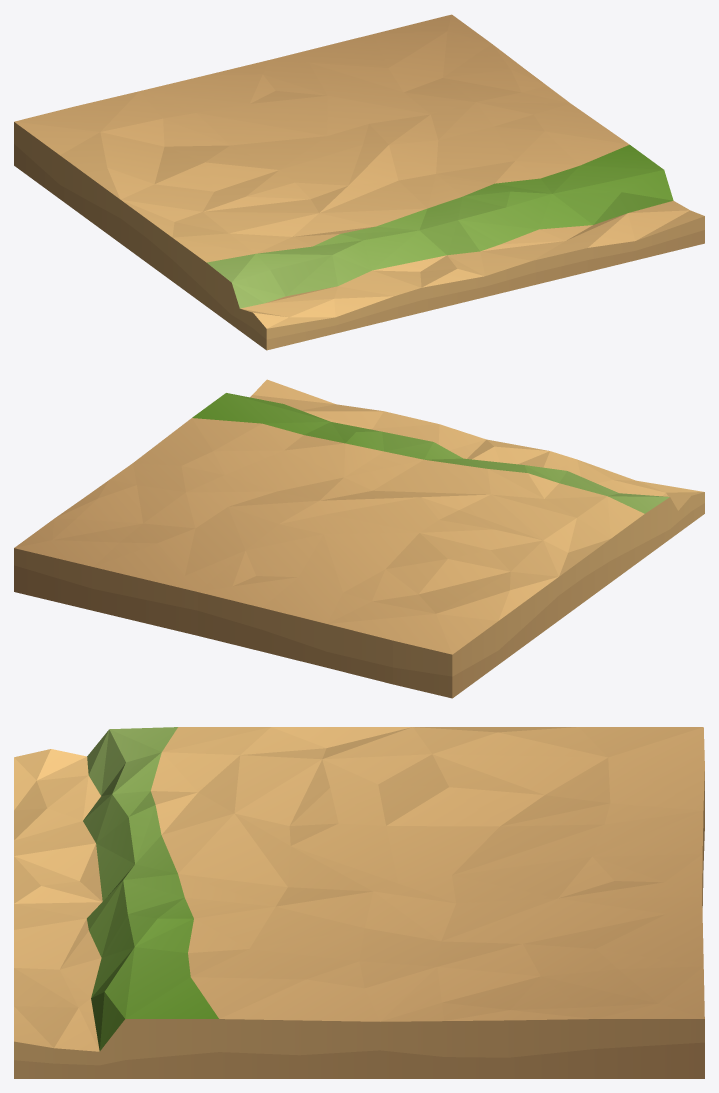
Rendered from land desert pyramids.fbx.
3 views of the same model, one above another, from view 1: azimuth 30°, elevation 25°; view 2: azimuth 150°, elevation 25°; view 3: azimuth 270°, elevation 25° (orthographic). The views are drawn at different scales.
Visible parts, largest first — view 1: land desert pyramids; view 2: land desert pyramids; view 3: land desert pyramids.
Part boxes in pixels (left/top/right/bottom): land desert pyramids: left=14, top=14, right=704, bottom=350; land desert pyramids: left=14, top=379, right=704, bottom=698; land desert pyramids: left=14, top=727, right=704, bottom=1078.
Size of the model in its own units: 4500 by 477 by 4500.
